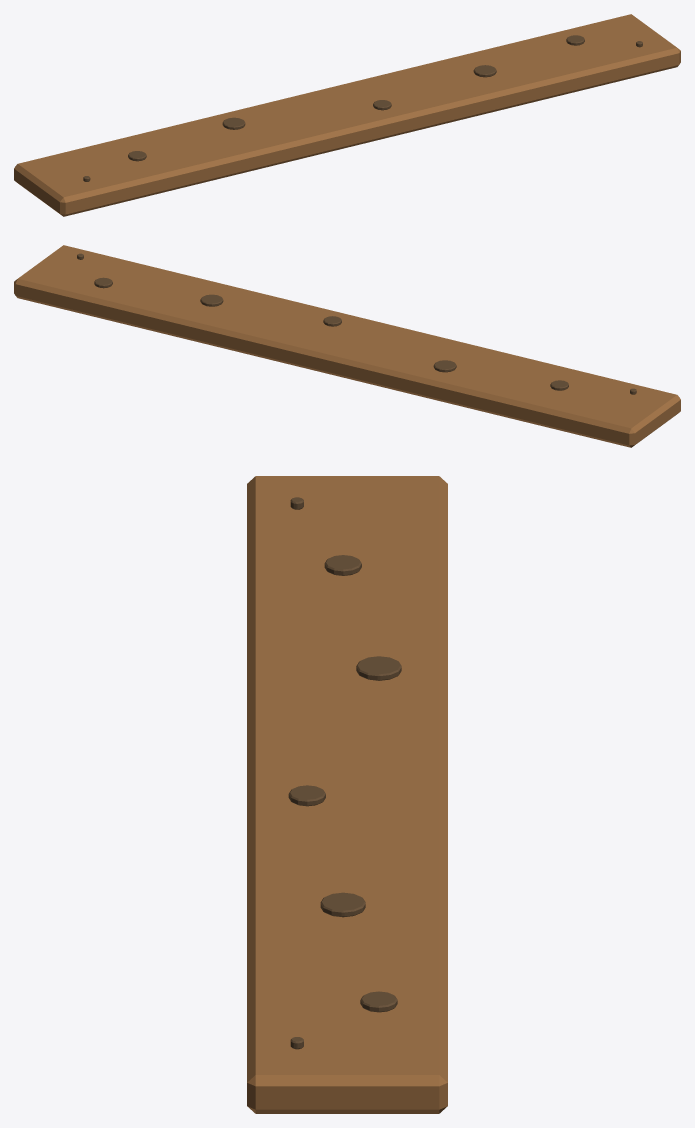
File: item_plank.glb
3 renders of one model, top to bottom at view 1: azimuth 30°, elevation 25°; view 2: azimuth 150°, elevation 25°; view 3: azimuth 270°, elevation 25°, orthographic. The views are drawn at different scales.
Parts seen in each view (by area): view 1: item_plank; view 2: item_plank; view 3: item_plank.
Part boxes in pixels (x1,y1,x2,y2): item_plank: (14,14,680,216); item_plank: (14,245,680,447); item_plank: (247,476,447,1113).
Bounding box in the file's own units: 1 × 0.037 × 0.14.
